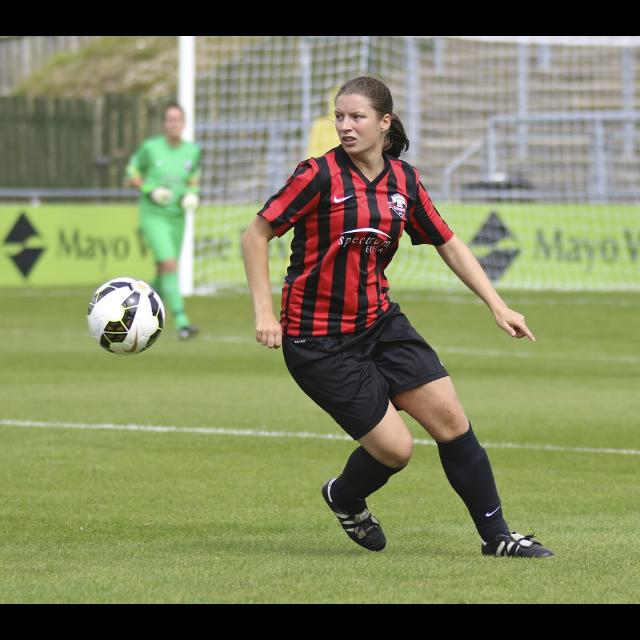Football: (84, 274, 166, 354)
